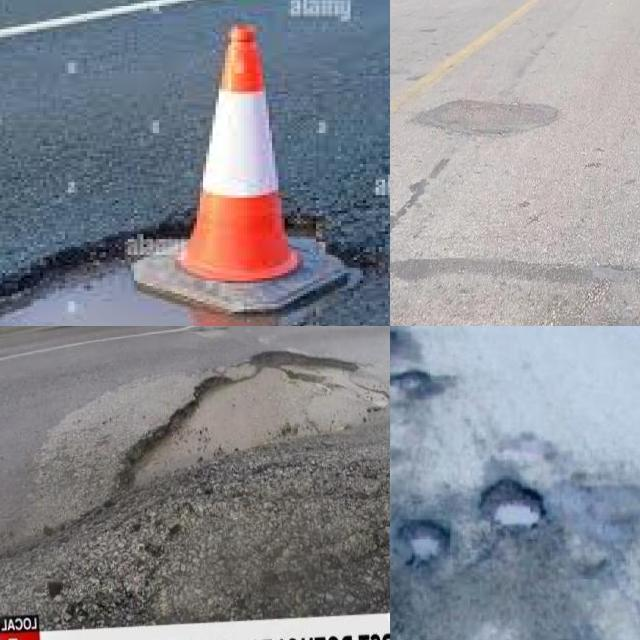Pothole: (104, 349, 390, 494), (133, 352, 390, 485), (0, 250, 275, 326), (480, 478, 546, 536), (397, 520, 447, 566), (390, 369, 437, 395)
